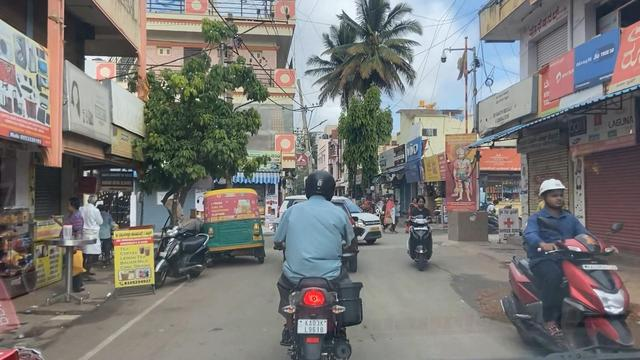LMV: (277, 169, 360, 360), (201, 189, 265, 259)
